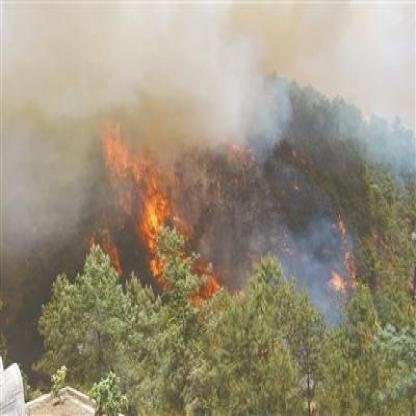fire: (79, 115, 362, 310)
smoke: (9, 15, 280, 138)
